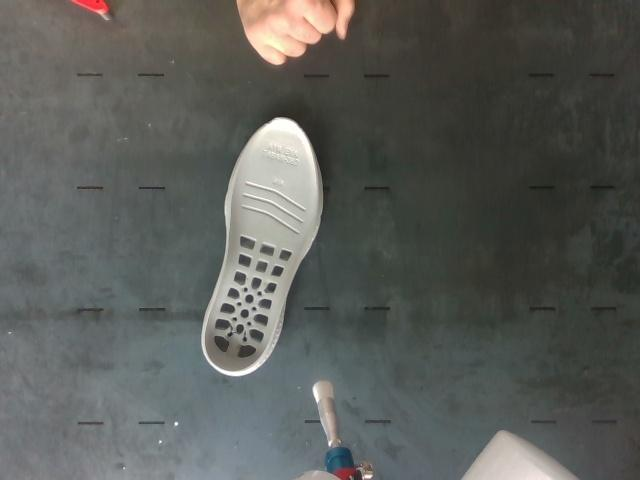shoes: (205, 118, 318, 372)
